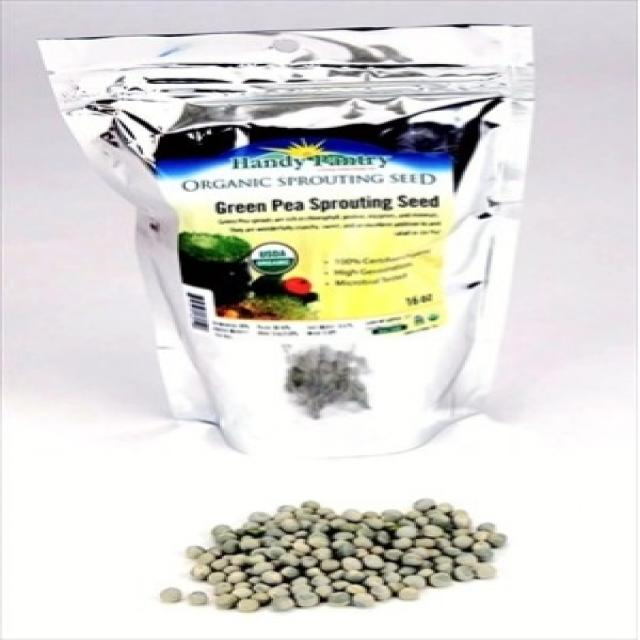pea: (128, 496, 506, 616)
